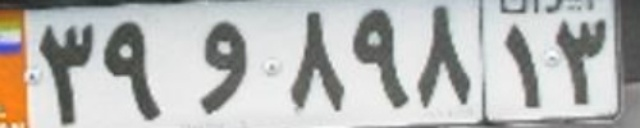1: (502, 23, 543, 108)
3: (37, 22, 94, 124), (551, 18, 610, 105)
8: (288, 10, 346, 108), (418, 6, 468, 107)
9: (102, 20, 159, 120), (353, 9, 406, 108)
vav: (199, 23, 249, 112)
